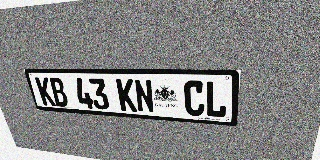3: (88, 78, 110, 110)
4: (73, 78, 94, 109)
B: (48, 77, 69, 107)
C: (184, 80, 205, 117)
K: (116, 79, 137, 112), (35, 77, 56, 106)
L: (205, 81, 228, 118)
N: (134, 79, 155, 113)
